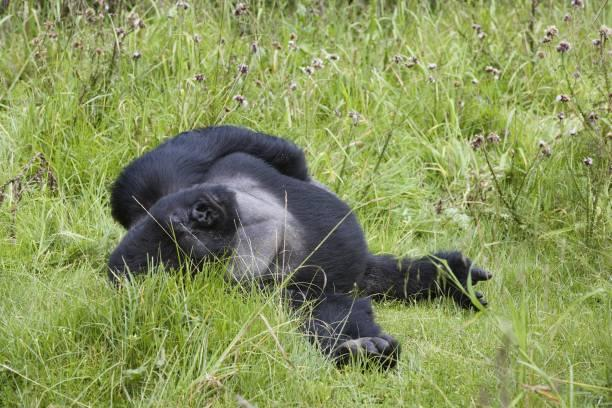goriile_montagne: (121, 114, 322, 295)
